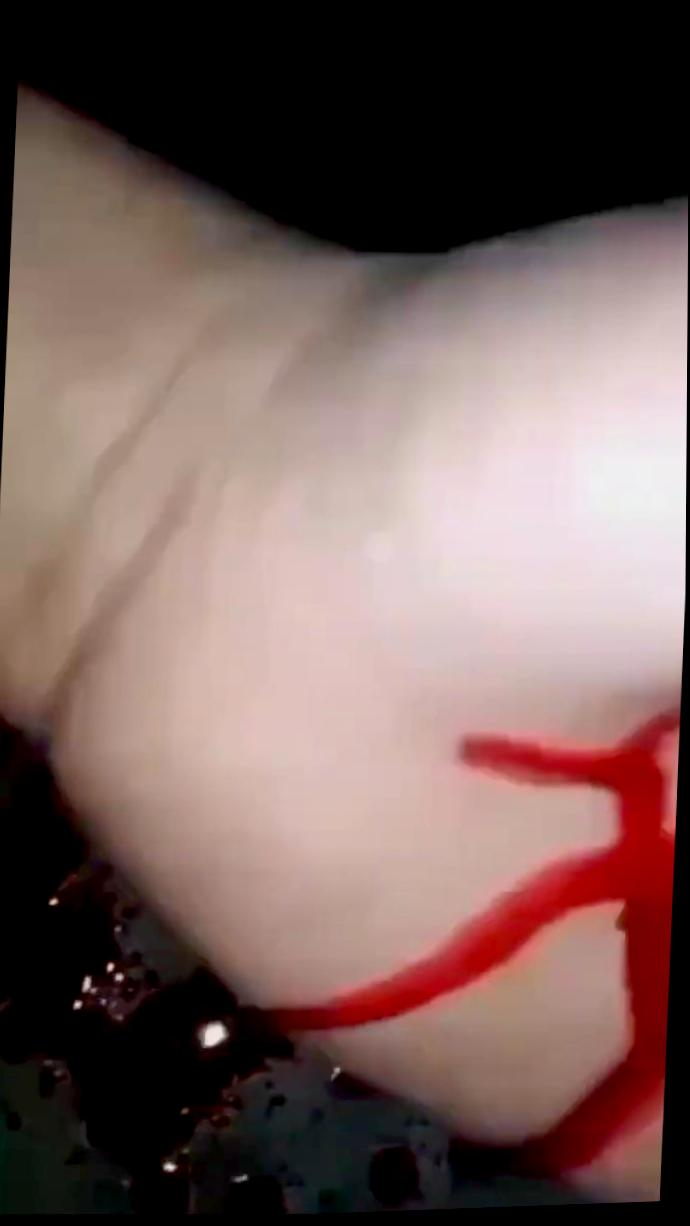Fire: (0, 707, 682, 1216)
